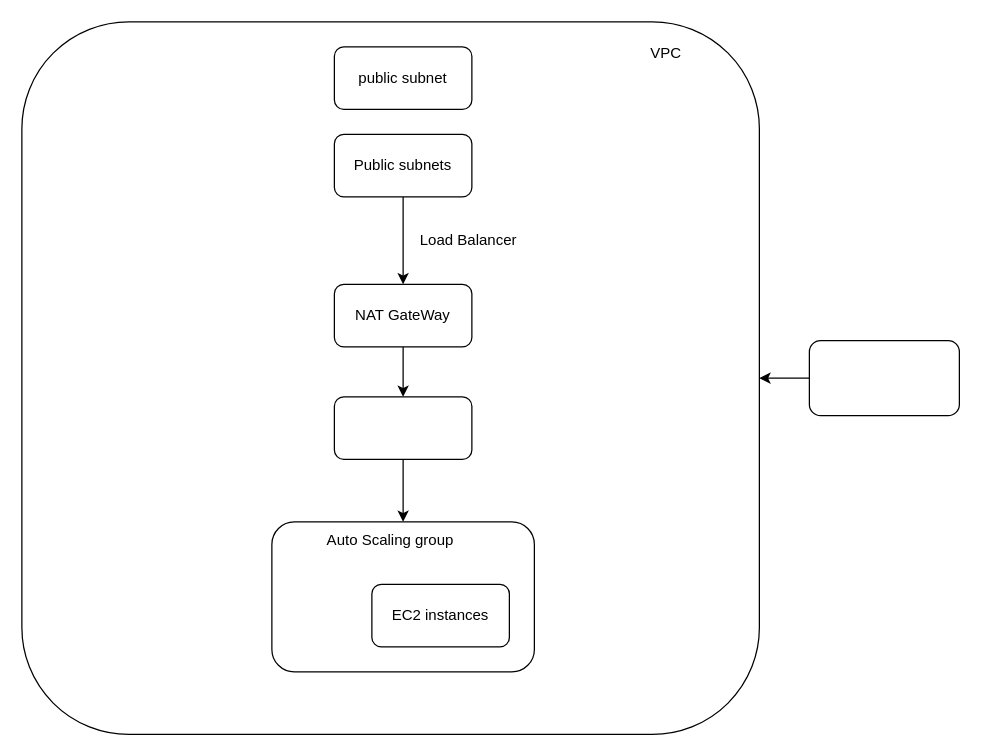
The diagram is 981 pixels wide and 756 high, and some of its shapes have lost their labels. The centre of each missing label's shape, as x and y in pixels:
"Private subnets" goes at (x=402, y=427).
"S3 bucket" goes at (x=883, y=377).
